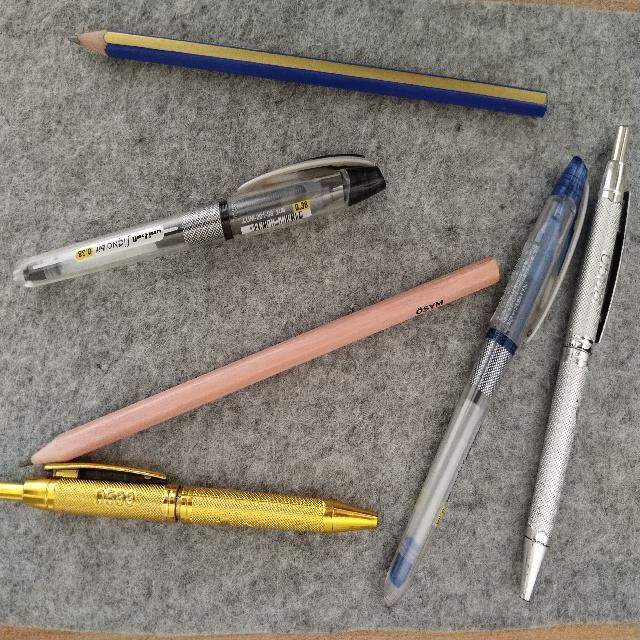pen: (384, 157, 586, 604), (13, 155, 385, 286)
pencil: (31, 258, 498, 463), (71, 30, 546, 116)
signature pen: (521, 126, 628, 600), (0, 462, 376, 532)
